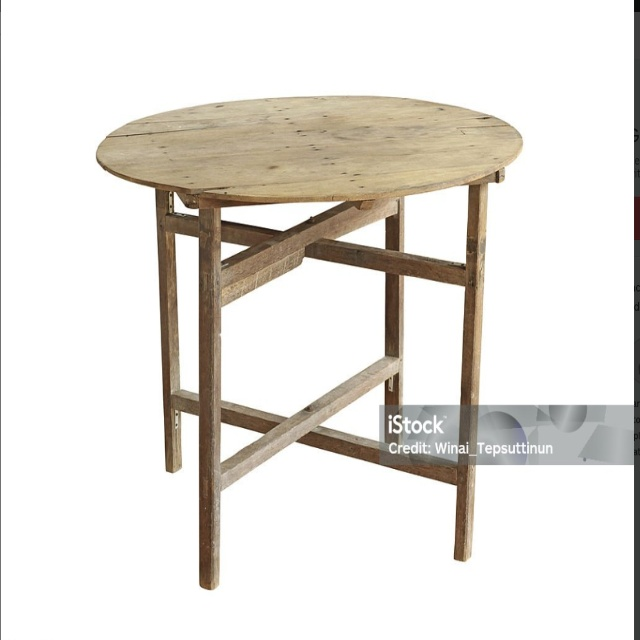obstacle: (92, 92, 526, 592)
